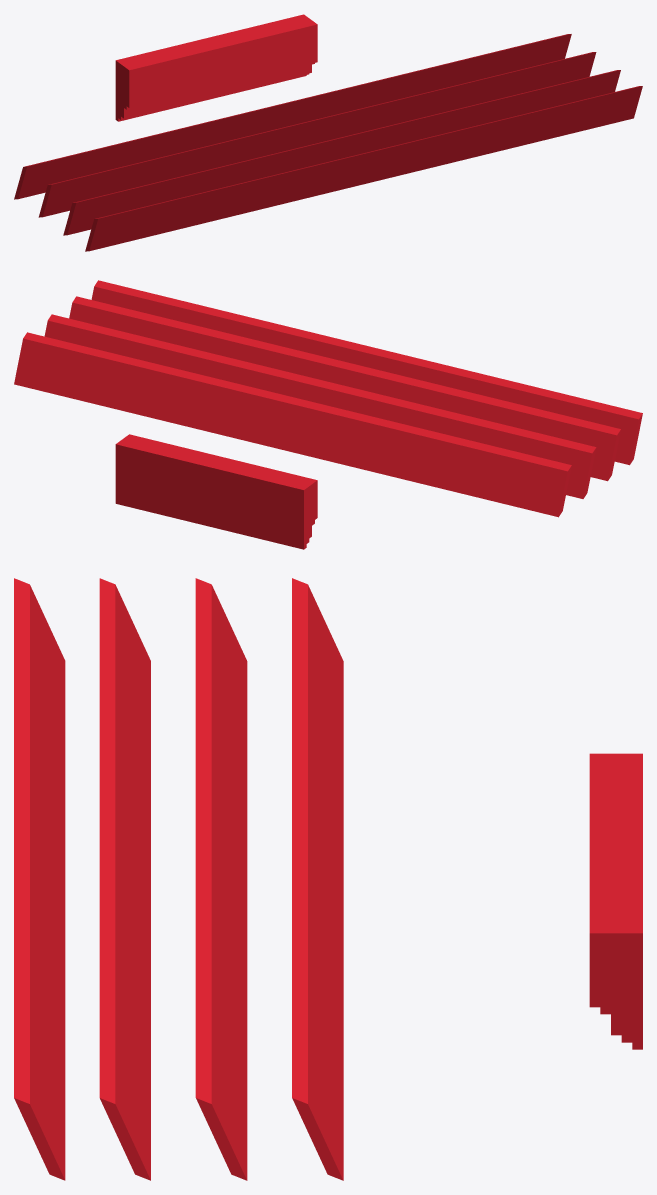
File: boelter2.obj
The picture shows the model from 3 angles, top to bottom: view 1: azimuth 30°, elevation 25°; view 2: azimuth 150°, elevation 25°; view 3: azimuth 270°, elevation 25°; orthographic projection. The views are drawn at different scales.
Parts seen in each view (by area): view 1: obj_0; view 2: obj_0; view 3: obj_0.
Part boxes in pixels (x1,y1,x2,y2): obj_0: [14, 14, 642, 251]; obj_0: [14, 280, 642, 549]; obj_0: [14, 578, 642, 1180].
Size of the model in its own units: 115 by 12.56 by 58.81.
